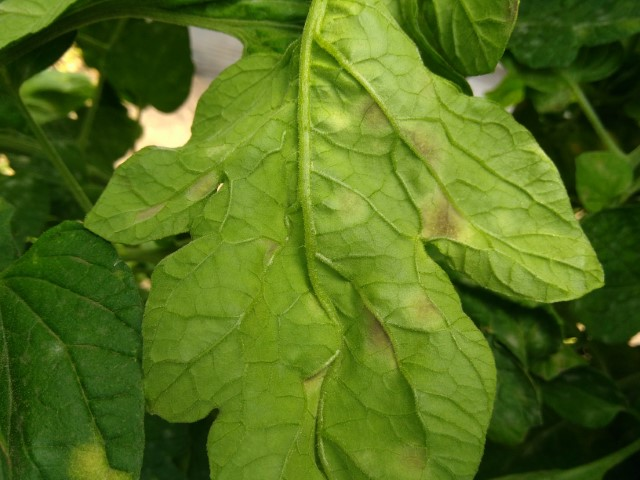cladosporium: (419, 198, 468, 237), (403, 126, 444, 158), (370, 317, 391, 346)
